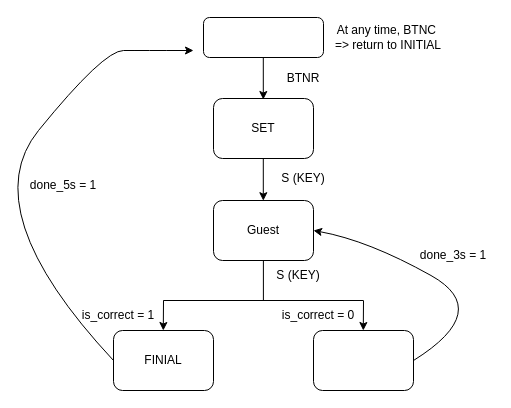
Some shapes in this 511 by 408 pixel diagram are drawn without their labels. The shapes that lost their labels are listed below. From the top down, each one's centre as x and y in pixels, then its label:
At (263,37): "INITIAL".
At (363,360): "Result".
